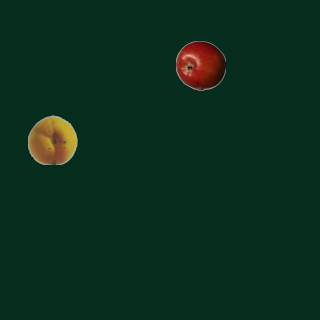Apple Braeburn: (175, 40, 225, 90)
Peach 2: (27, 114, 77, 164)
